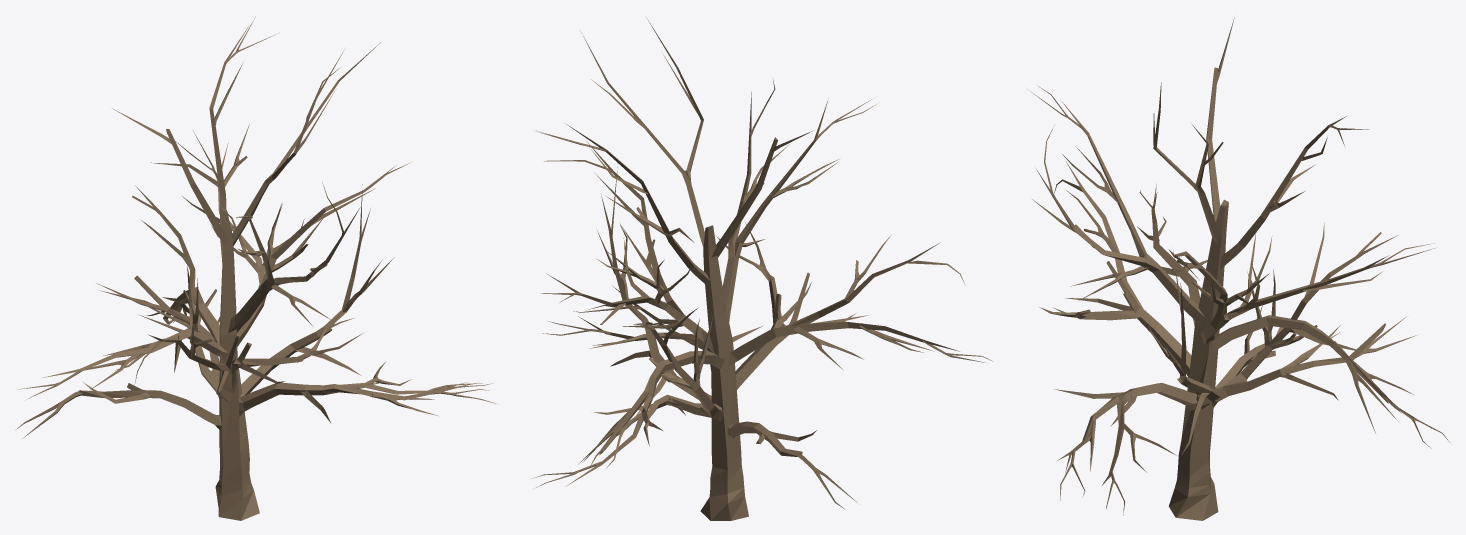
Rendered from tree_bare_a_12.FBX.
The picture shows the model from 3 angles, left to right: view 1: azimuth 30°, elevation 25°; view 2: azimuth 150°, elevation 25°; view 3: azimuth 270°, elevation 25°; orthographic projection. The views are drawn at different scales.
Parts seen in each view (by area): view 1: tree_bare_a_12; view 2: tree_bare_a_12; view 3: tree_bare_a_12.
Boxes of the visible parts, x1,y1,x2,y2 form: tree_bare_a_12: (15,17,496,520); tree_bare_a_12: (532,17,992,520); tree_bare_a_12: (1027,17,1449,520).
Size of the model in its own units: 7.53 by 7.12 by 5.74.
